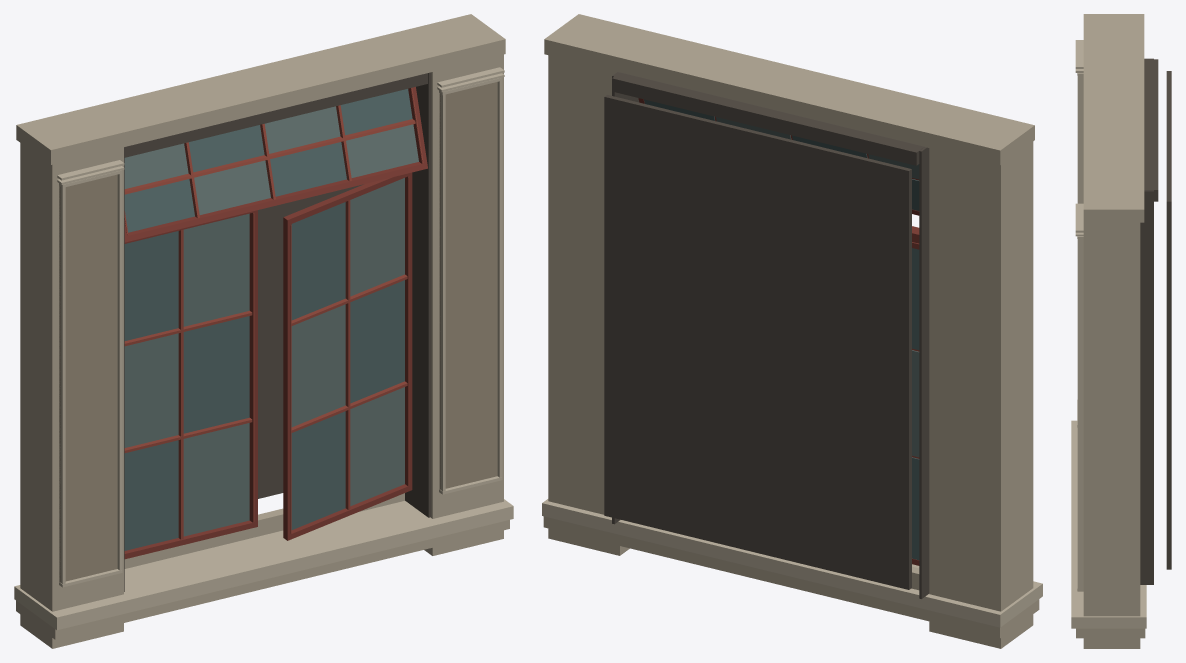
Rendered from hongkou-pingliang-25-north-casements-raw.glb.
3 renders of one model, left to right at view 1: azimuth 30°, elevation 25°; view 2: azimuth 150°, elevation 25°; view 3: azimuth 270°, elevation 25°, orthographic. The views are drawn at different scales.
Visible parts, largest first — view 1: 平凉路25号住宅北立面第三开间外悬亮窗与石壁柱; view 2: 平凉路25号住宅北立面第三开间外悬亮窗与石壁柱; view 3: 平凉路25号住宅北立面第三开间外悬亮窗与石壁柱.
Boxes of the visible parts, bbox=[...] form: 平凉路25号住宅北立面第三开间外悬亮窗与石壁柱: bbox=[14, 14, 513, 648]; 平凉路25号住宅北立面第三开间外悬亮窗与石壁柱: bbox=[542, 14, 1042, 648]; 平凉路25号住宅北立面第三开间外悬亮窗与石壁柱: bbox=[1071, 14, 1171, 648].
Size of the model in its own units: 2.25 by 2.35 by 0.486.
